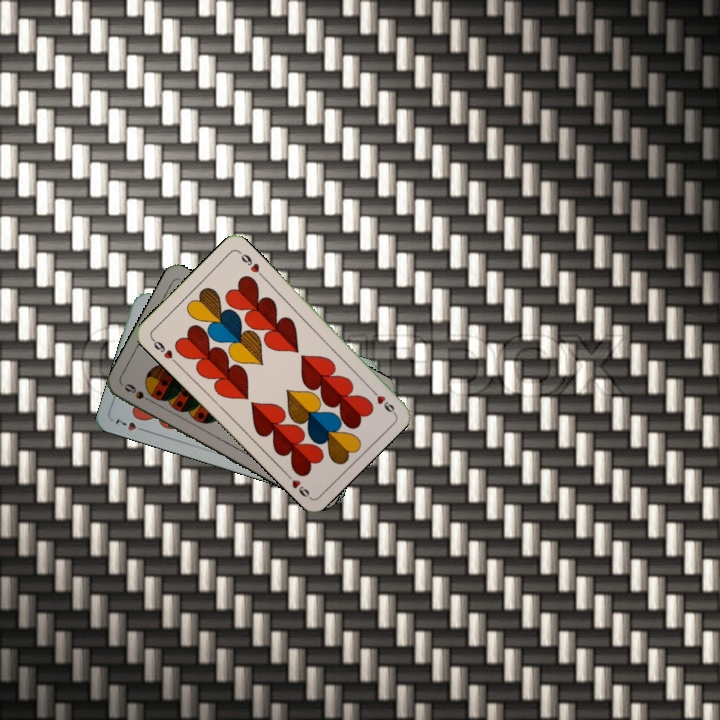H7: (111, 415, 150, 435)
H9: (365, 383, 397, 416), (147, 334, 179, 366)
S9: (120, 380, 157, 406)
